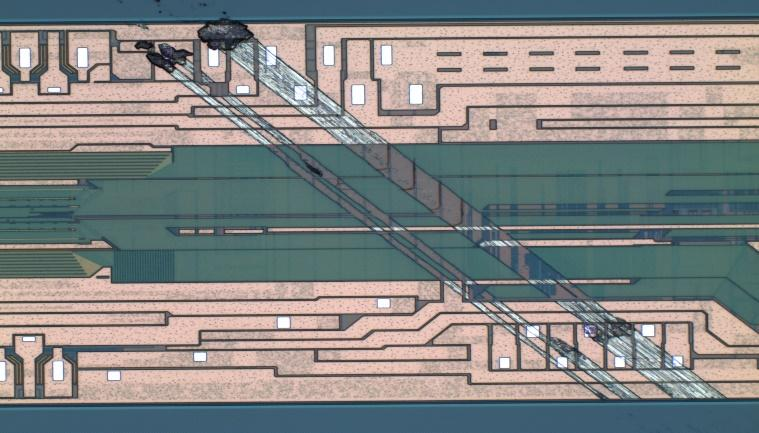SCRATCH: (130, 18, 728, 409)
